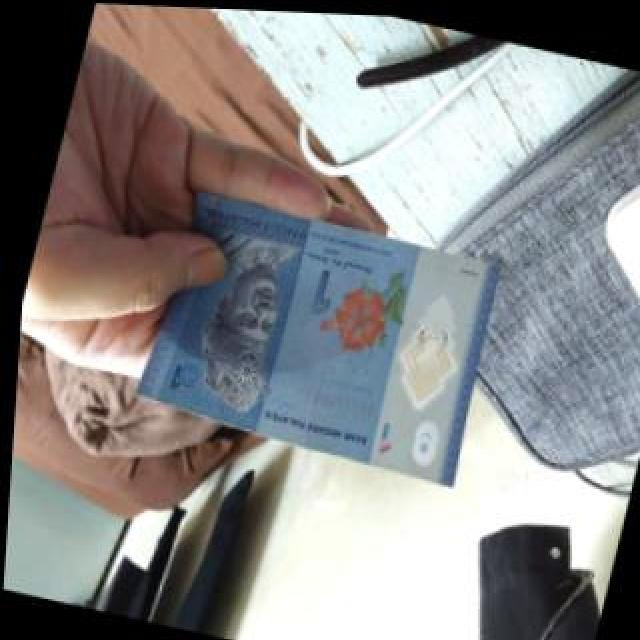1 Ringgit: (66, 167, 514, 486)
